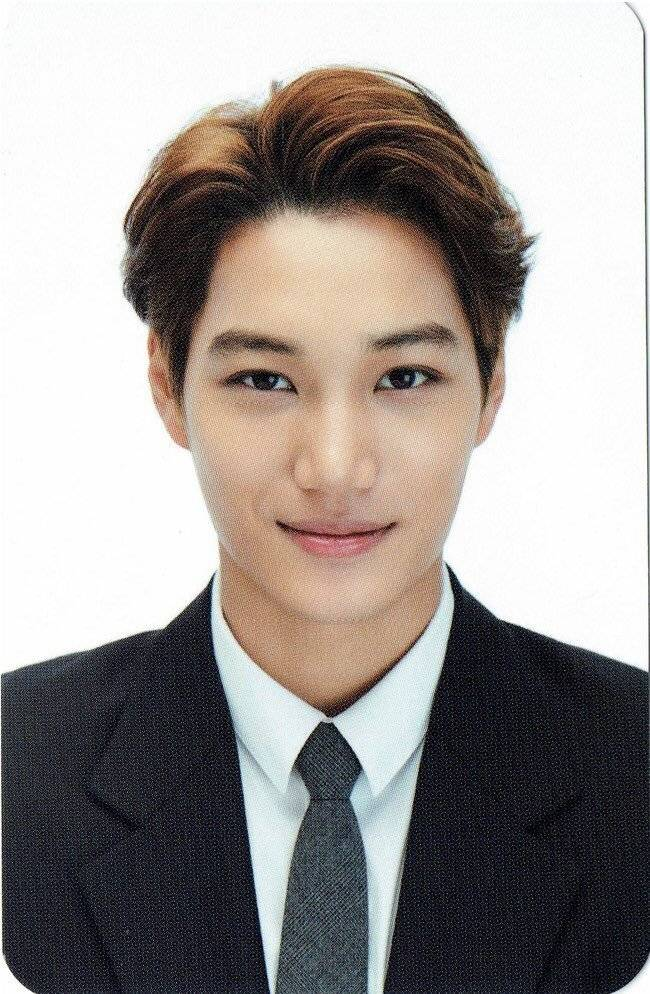unmask: (189, 260, 505, 625)
